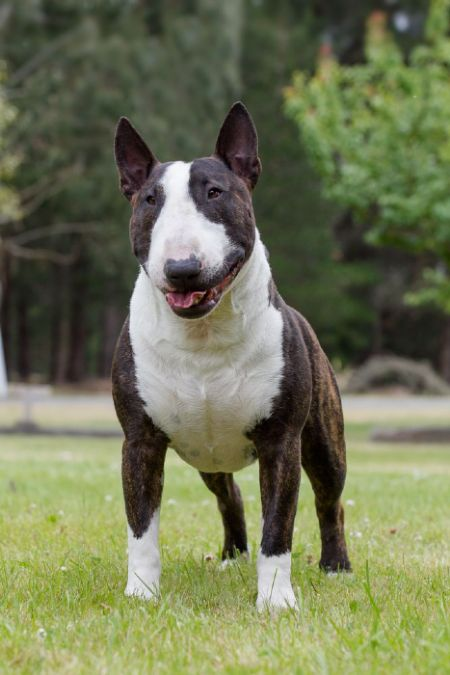bull_terrier: (110, 101, 352, 613)
